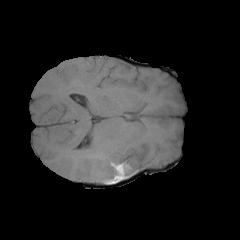glioma: (84, 143, 148, 184)
